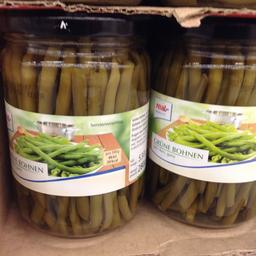beans: (2, 12, 148, 238), (154, 12, 255, 226)
